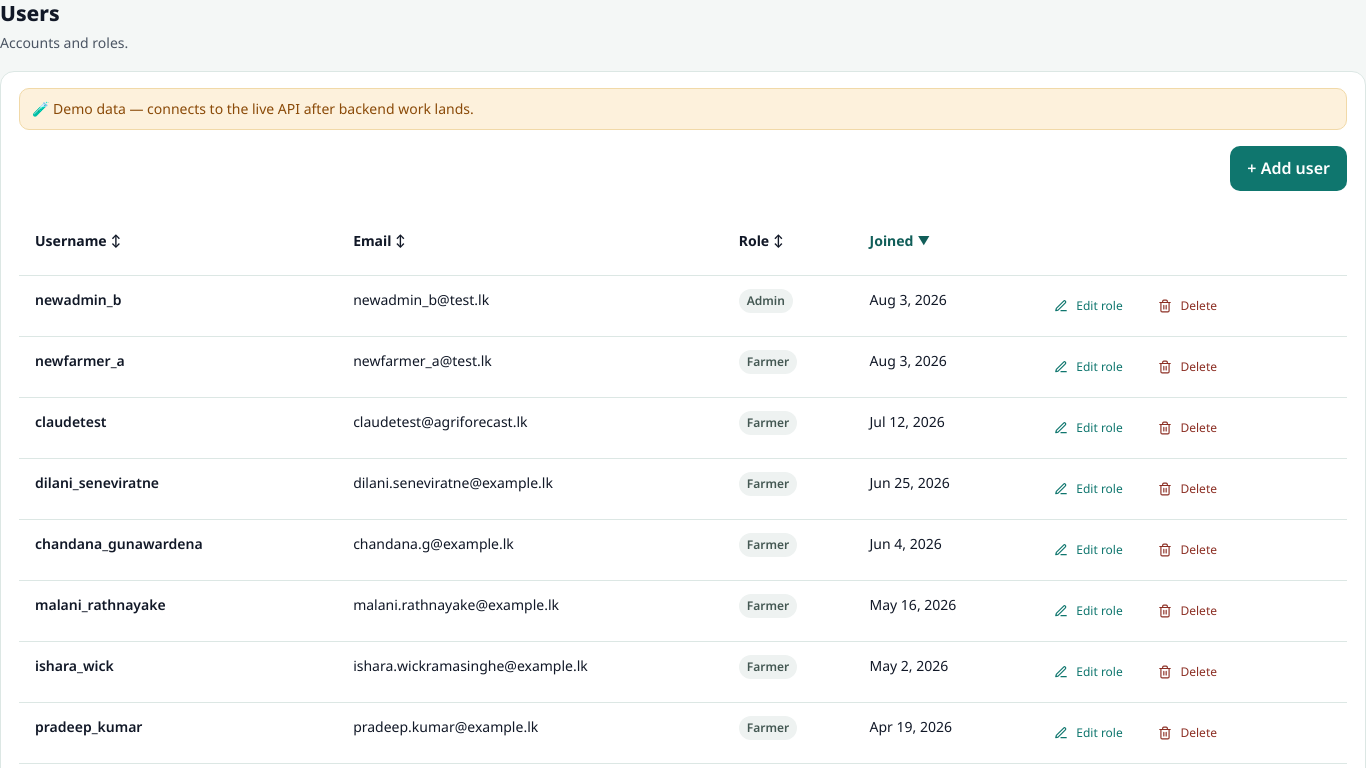
UsersPage — add user › trims username and email but never the password
Expected: the text "claudetest" is shown, [35, 412, 106, 431]
Click the button "+ Add user" at point(1289, 168), box [1230, 146, 1347, 191]
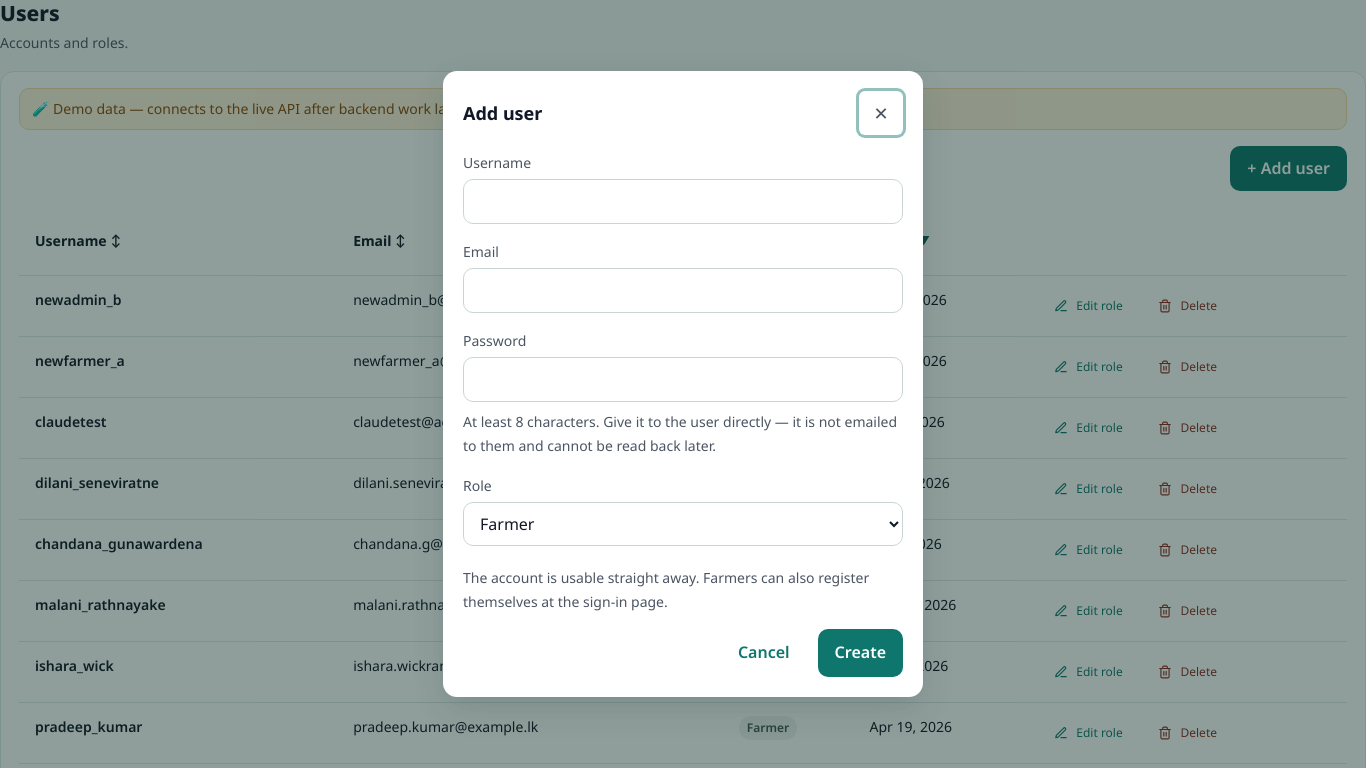
Type "  spaced_c  " into the field labelled "Username" at point(683, 202), box [463, 179, 903, 224]
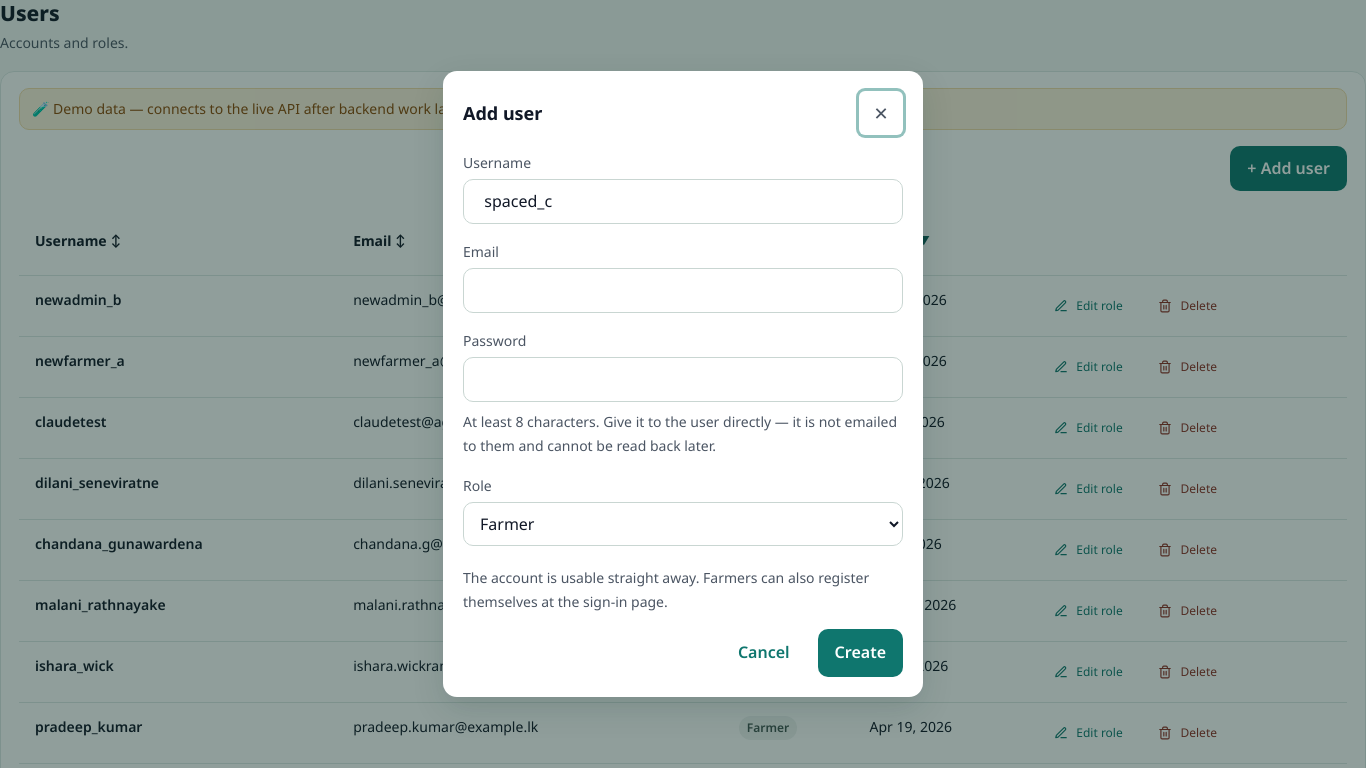
Type "  spaced_c@test.lk " into the field labelled "Email" at point(683, 291), box [463, 268, 903, 313]
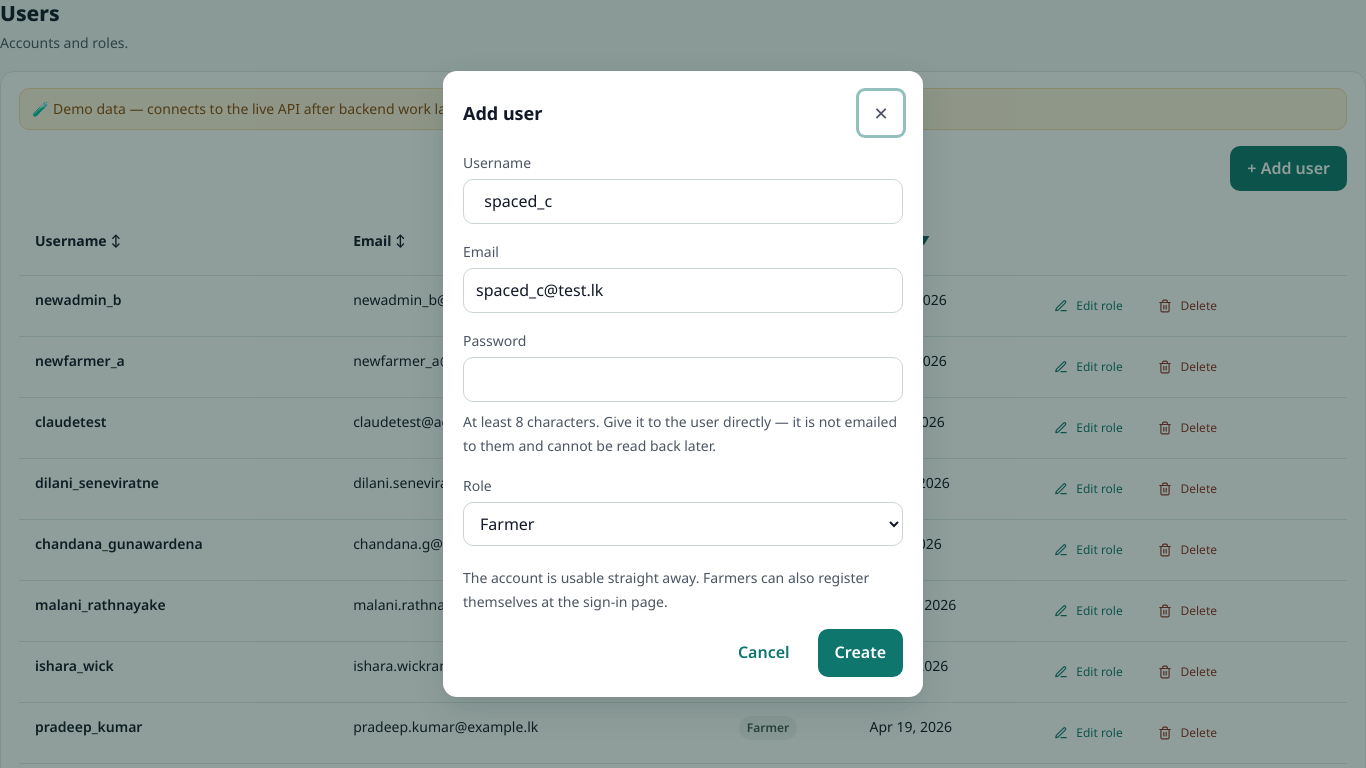
Type " pad ded pw " into the password field at point(683, 380), box [463, 357, 903, 402]
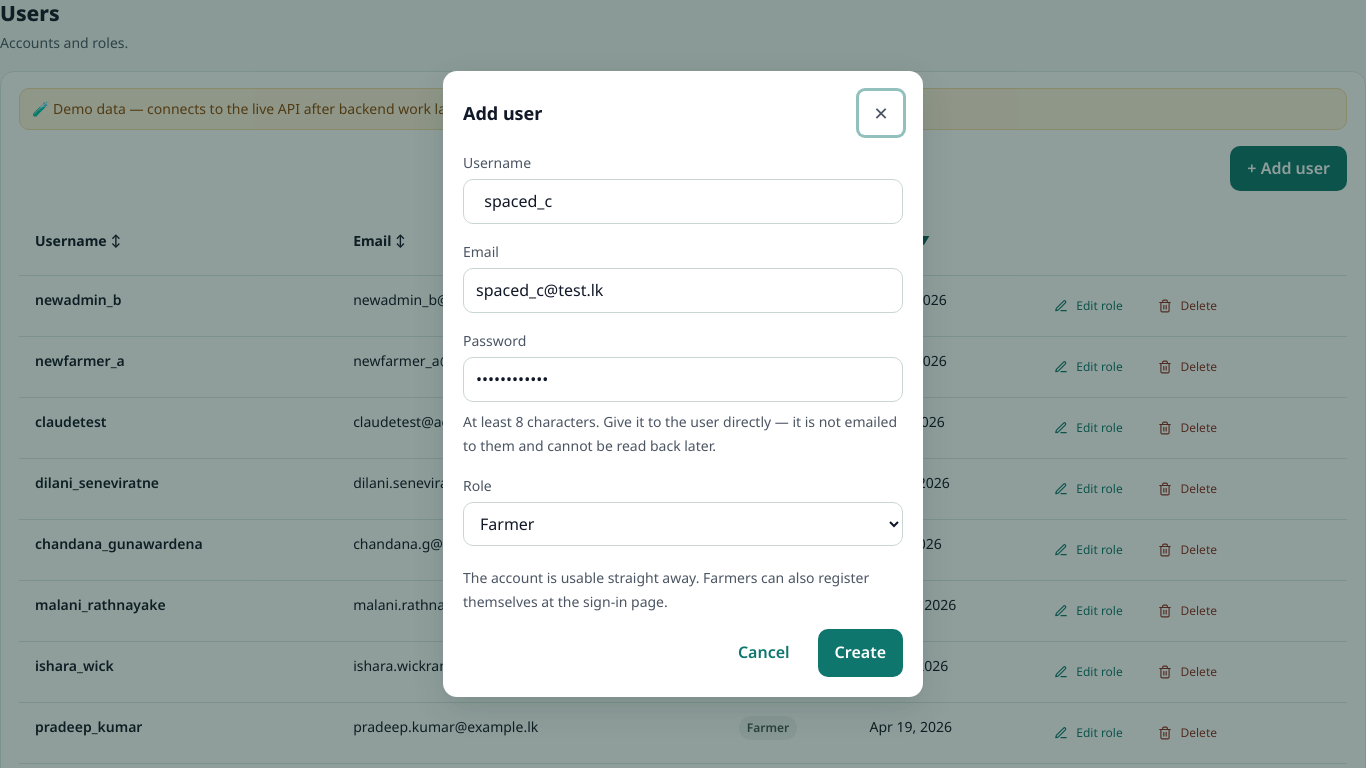
Click the button "Create" at point(860, 653), box [818, 629, 903, 677]
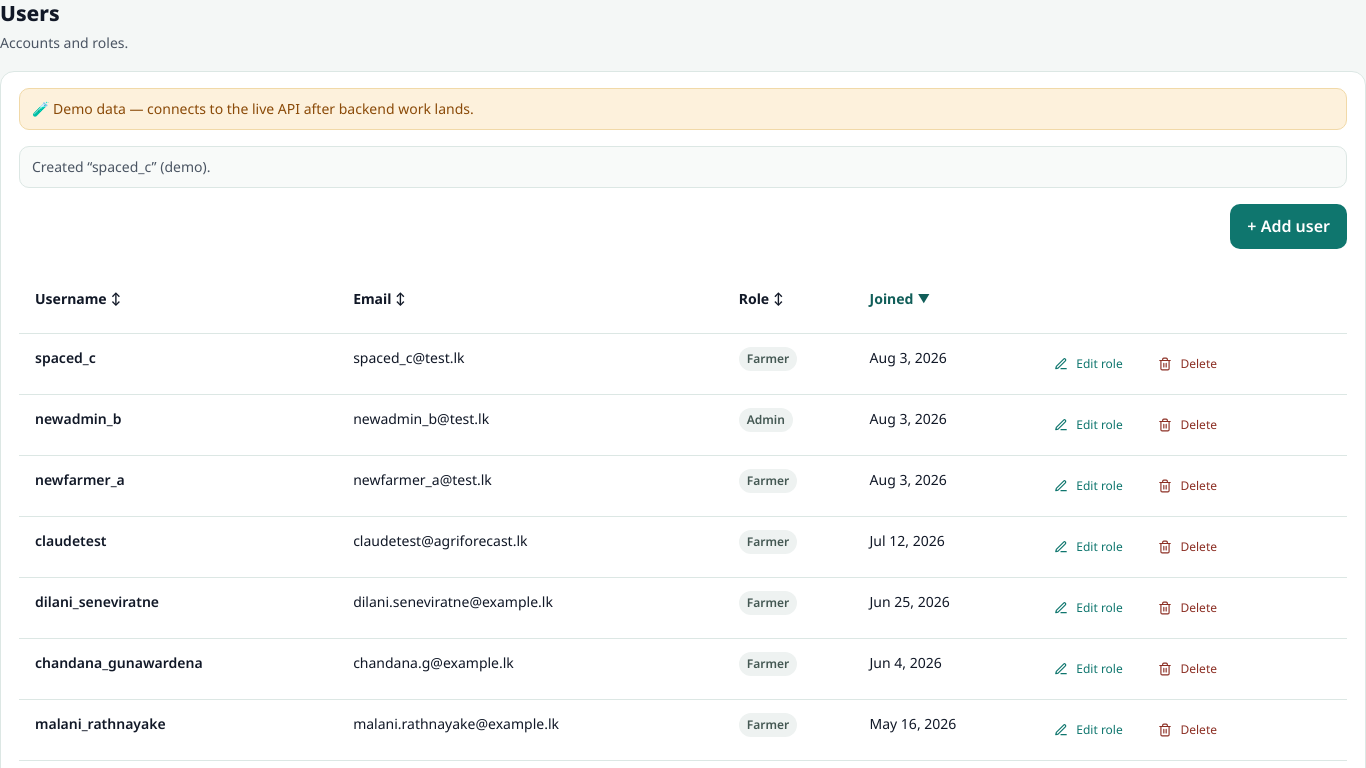
Expected: the text "spaced_c" is shown, [35, 348, 96, 367]
Expected: the cell "spaced_c@test.lk" is shown, [337, 334, 723, 394]
